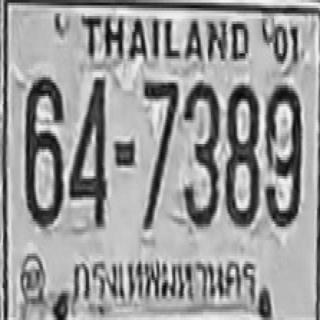N03: (182, 78, 219, 225)
N04: (68, 73, 105, 225)
N06: (24, 75, 63, 227)
N07: (142, 77, 178, 226)
N08: (224, 80, 258, 224)
N09: (264, 81, 301, 225)
P04: (67, 247, 259, 313)
